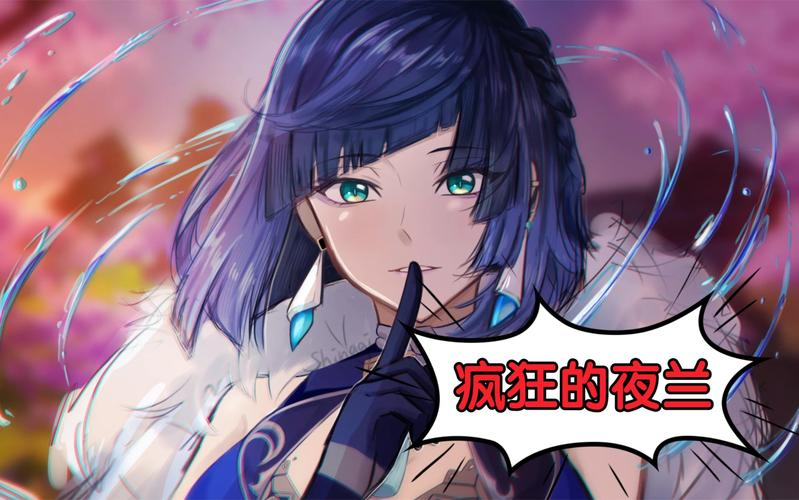夜兰: (152, 2, 659, 498)
